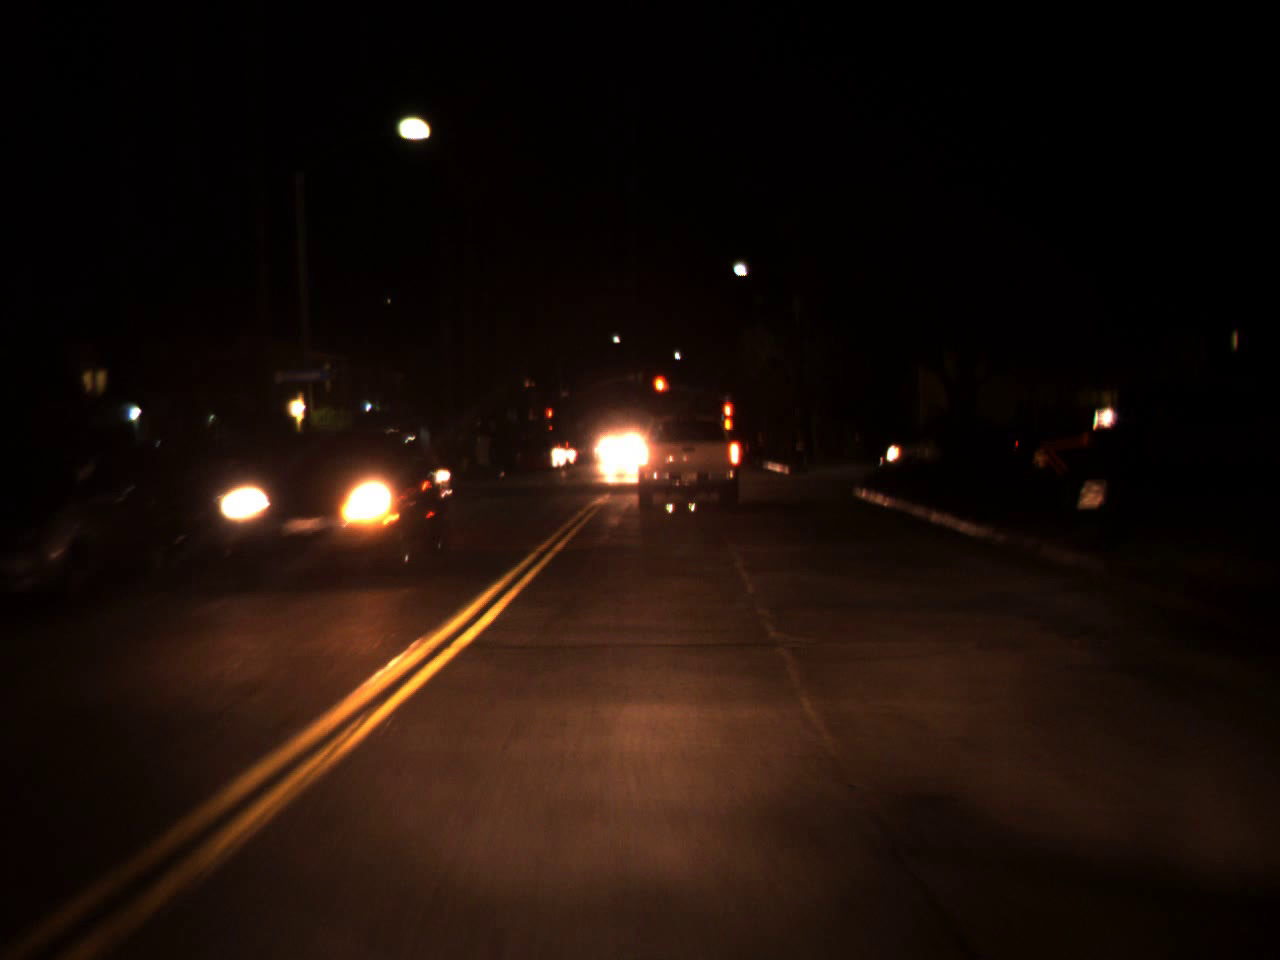stop: (650, 372, 669, 412), (722, 399, 734, 434), (545, 408, 552, 429)
